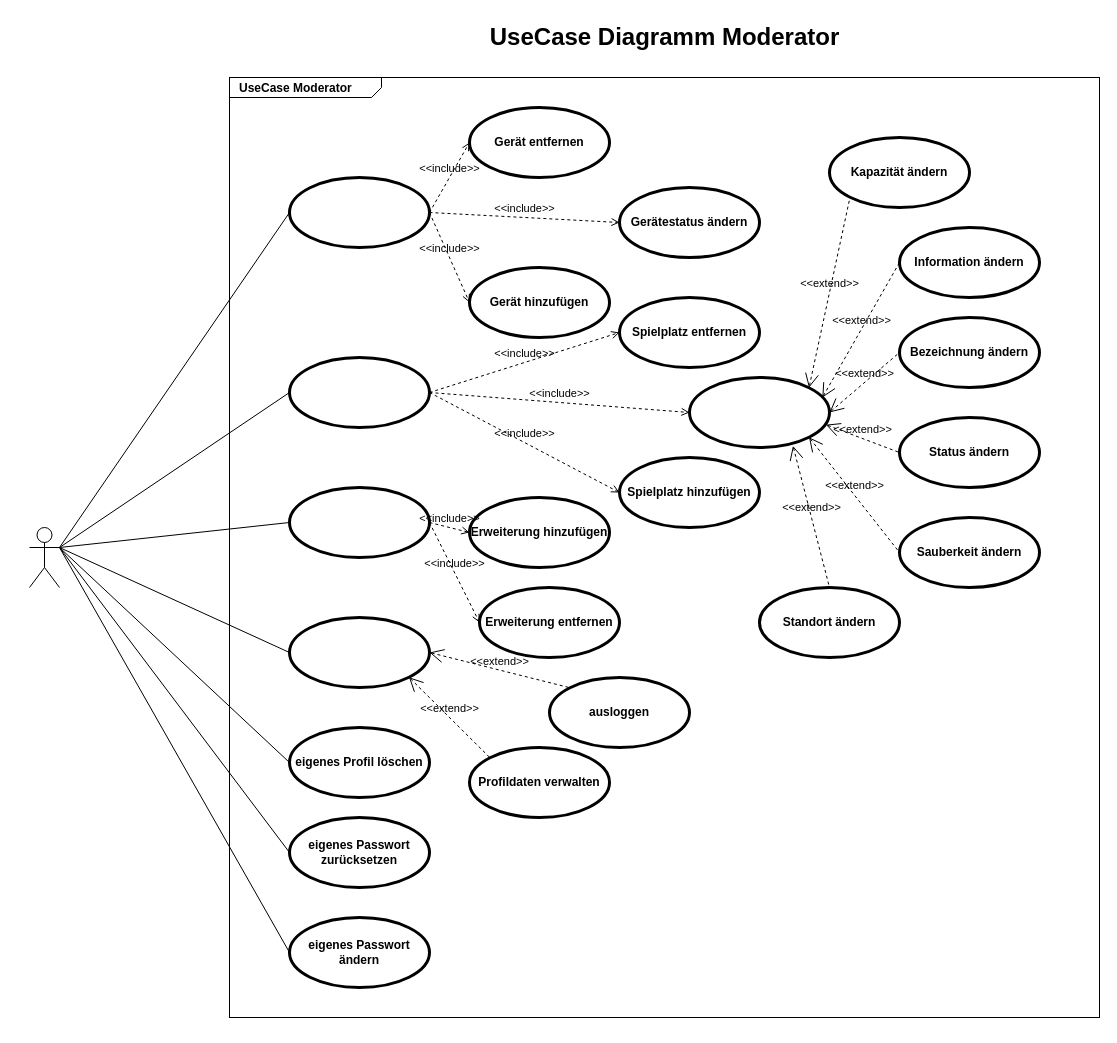
This 1117x1043 diagram has some shape labels left out. Each missing label, with the centre of its shape:
"einloggen" goes at [359,652].
"Erweiterungen verwalten" goes at [359,522].
"Geräte verwalten" goes at [359,212].
"Moderator" goes at [44,557].
"Spielplatzdaten ändern" goes at [759,412].
"Spielplätze verwalten" goes at [359,392].
